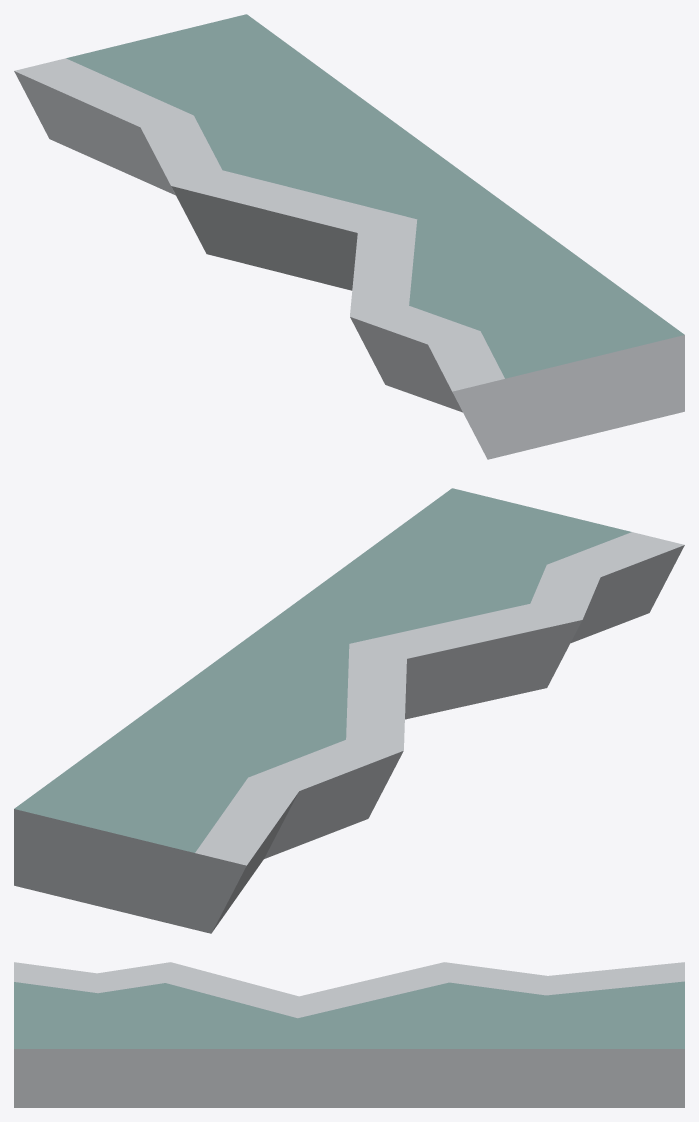
Rendered from naturePack_096.gltf.
The picture shows the model from 3 angles, top to bottom: view 1: azimuth 30°, elevation 25°; view 2: azimuth 150°, elevation 25°; view 3: azimuth 270°, elevation 25°; orthographic projection. The views are drawn at different scales.
Parts seen in each view (by area): view 1: Mesh1 Grey_Cliff_Top Model; view 2: Mesh1 Grey_Cliff_Top Model; view 3: Mesh1 Grey_Cliff_Top Model.
Part boxes in pixels (box(x1,y1,x2,y2)): Mesh1 Grey_Cliff_Top Model: box(14, 14, 684, 459); Mesh1 Grey_Cliff_Top Model: box(14, 488, 684, 933); Mesh1 Grey_Cliff_Top Model: box(14, 962, 684, 1107).
Size of the model in its own units: 0.92 by 0.29 by 3.
